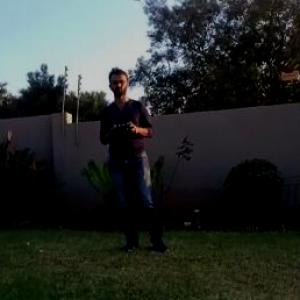follow: (96, 61, 176, 254)
